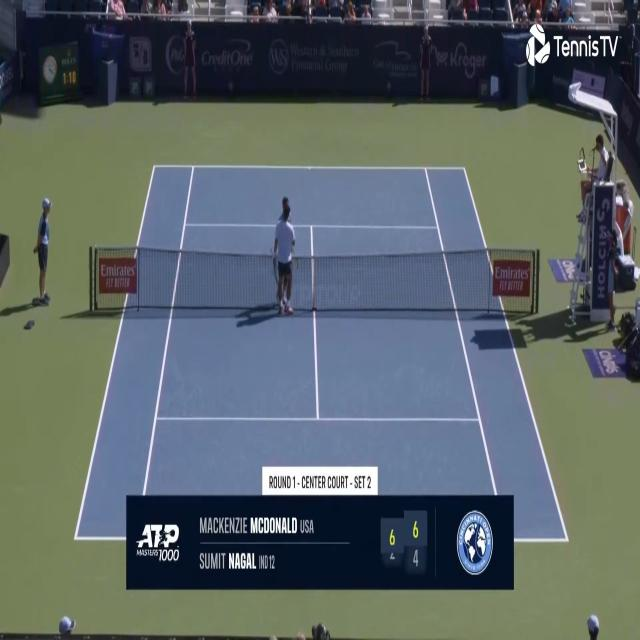tennis-player: (272, 192, 298, 318)
